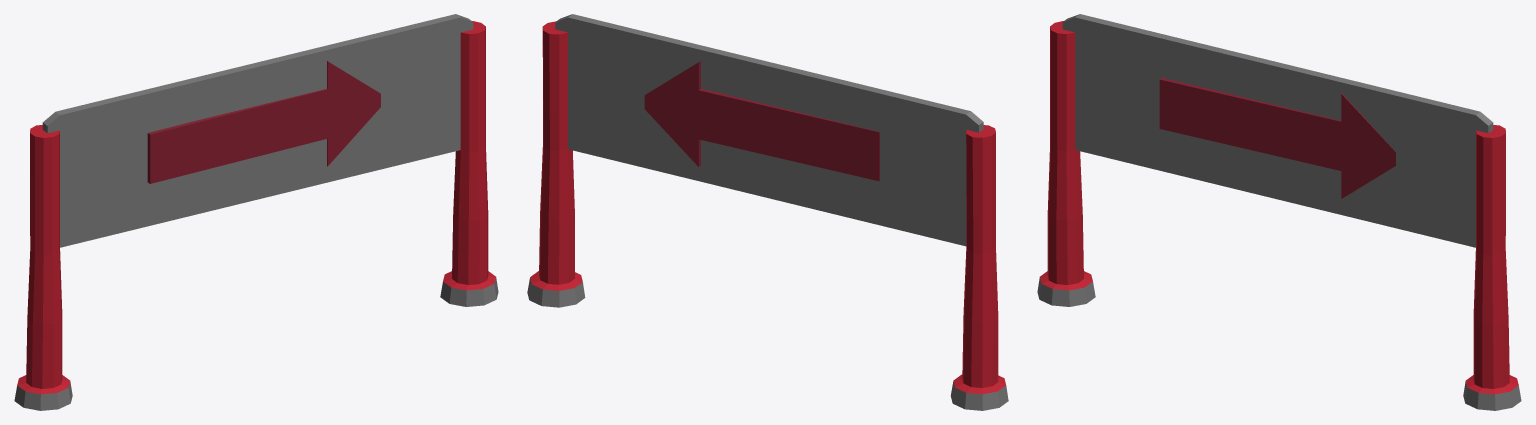
File: Prop_Directions.obj
The picture shows the model from 3 angles, left to right: view 1: azimuth 30°, elevation 25°; view 2: azimuth 150°, elevation 25°; view 3: azimuth 330°, elevation 25°; orthographic projection.
Parts seen in each view (by area): view 1: Direction; view 2: Direction; view 3: Direction.
Boxes of the visible parts, <box> form: Direction: <box>14,14,498,410</box>; Direction: <box>527,14,1008,410</box>; Direction: <box>1037,14,1521,410</box>.
Size of the model in its own units: 3.09 by 1.76 by 0.3358.
Materials: 2 (2 with a texture image).
